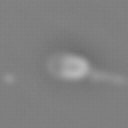normal: (89, 63, 128, 90)
